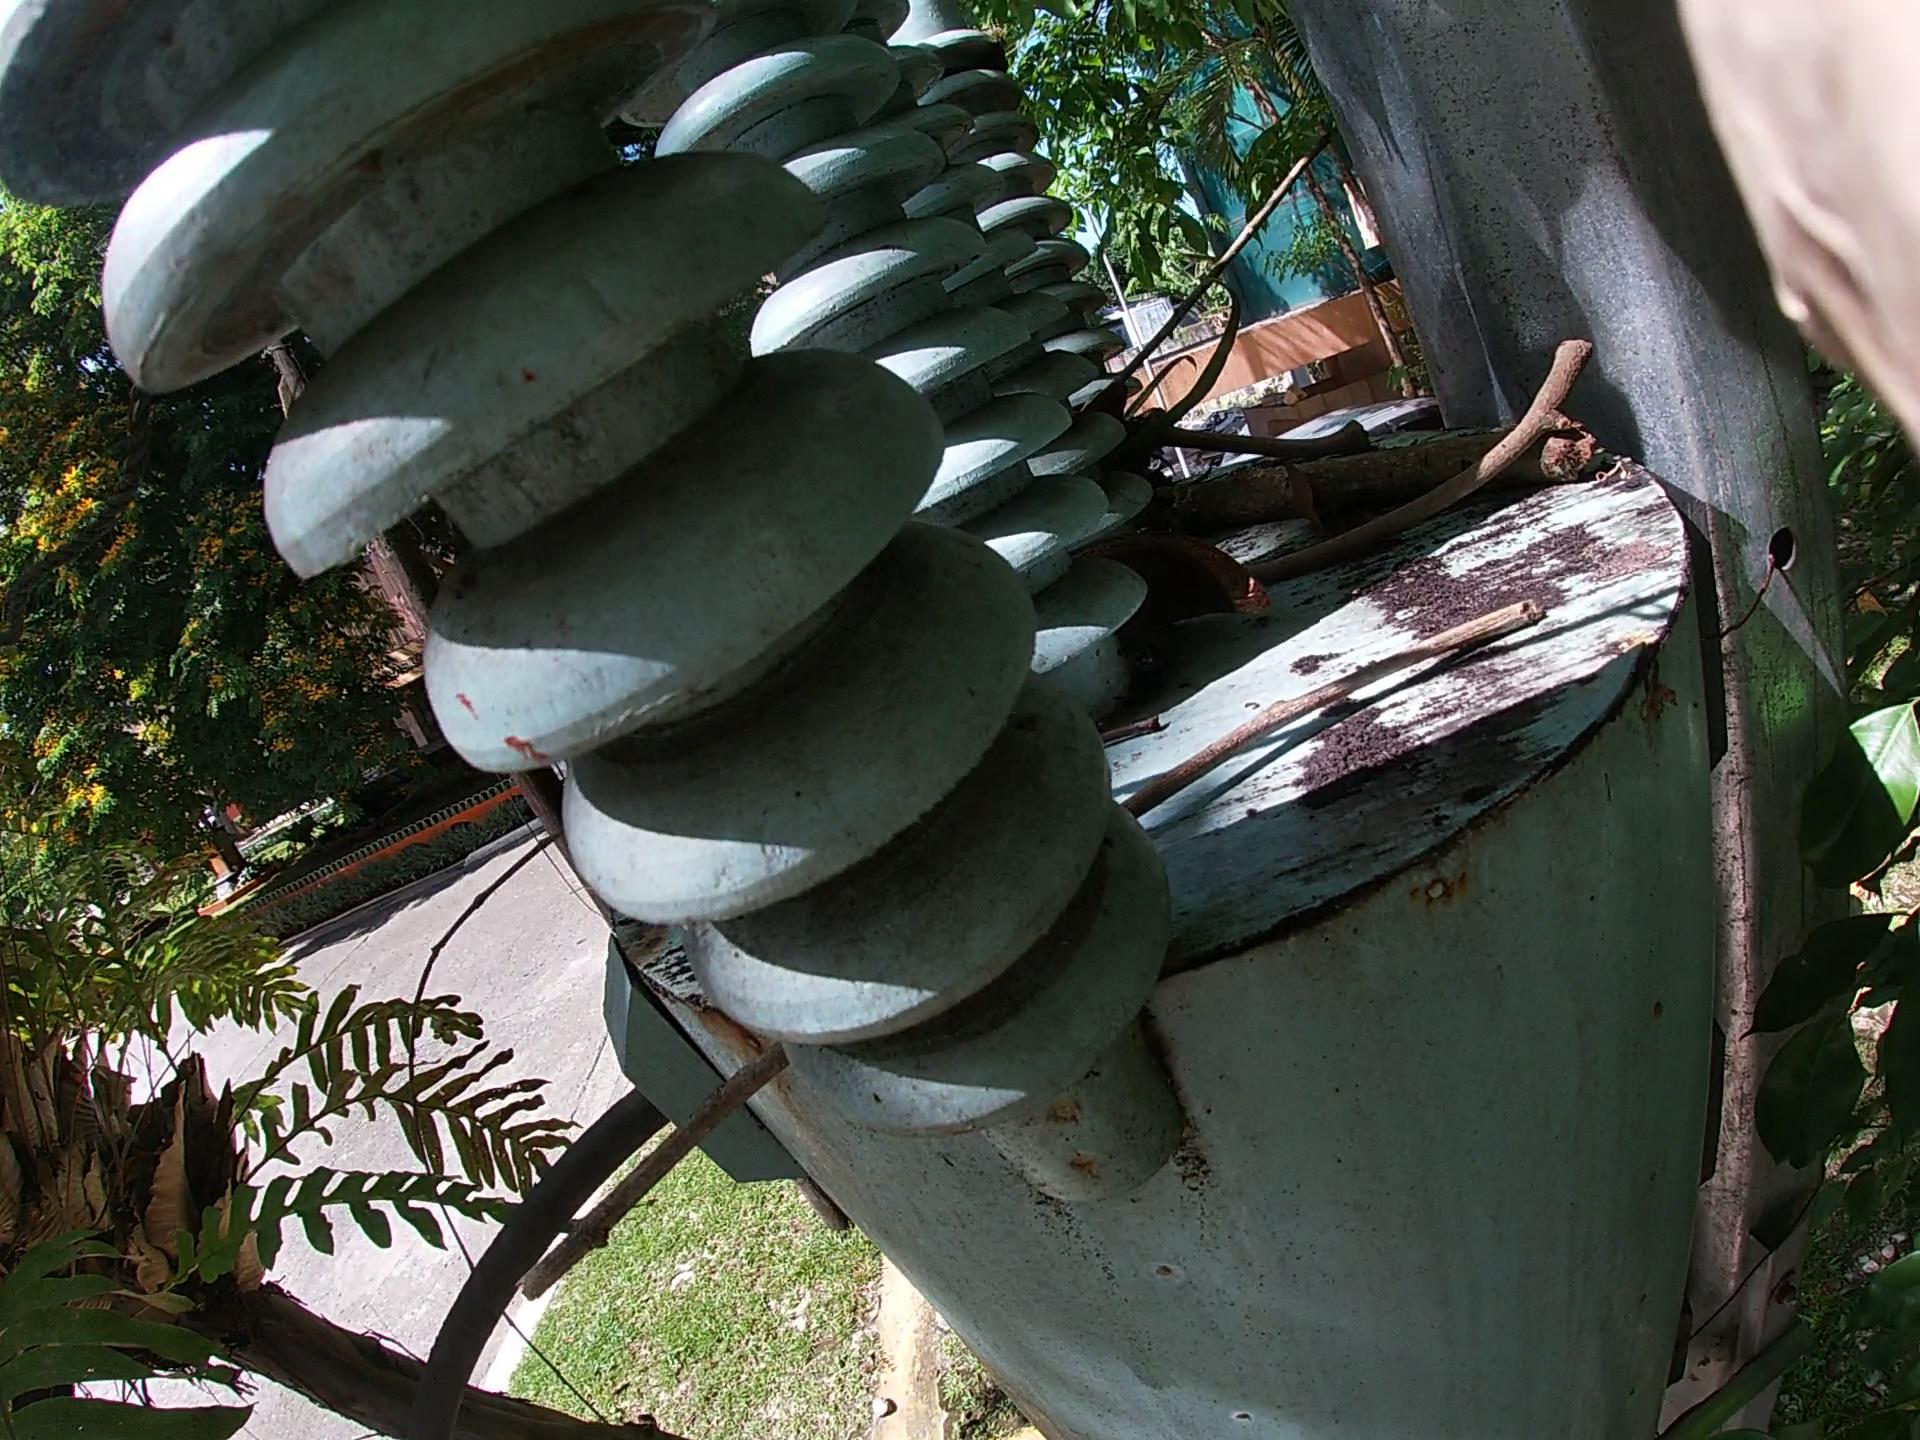branch with leaves: (1101, 324, 1689, 601)
mahogany fruit: (1067, 476, 1297, 687)
tree branch: (209, 141, 1290, 1296), (559, 625, 1442, 1234), (1179, 357, 1772, 597), (1037, 498, 1346, 659)
